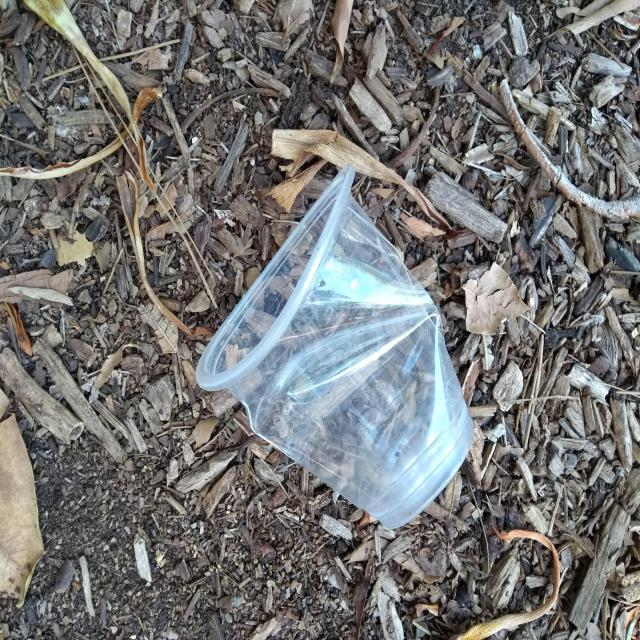Disposable plastic cup: (195, 162, 473, 529)
